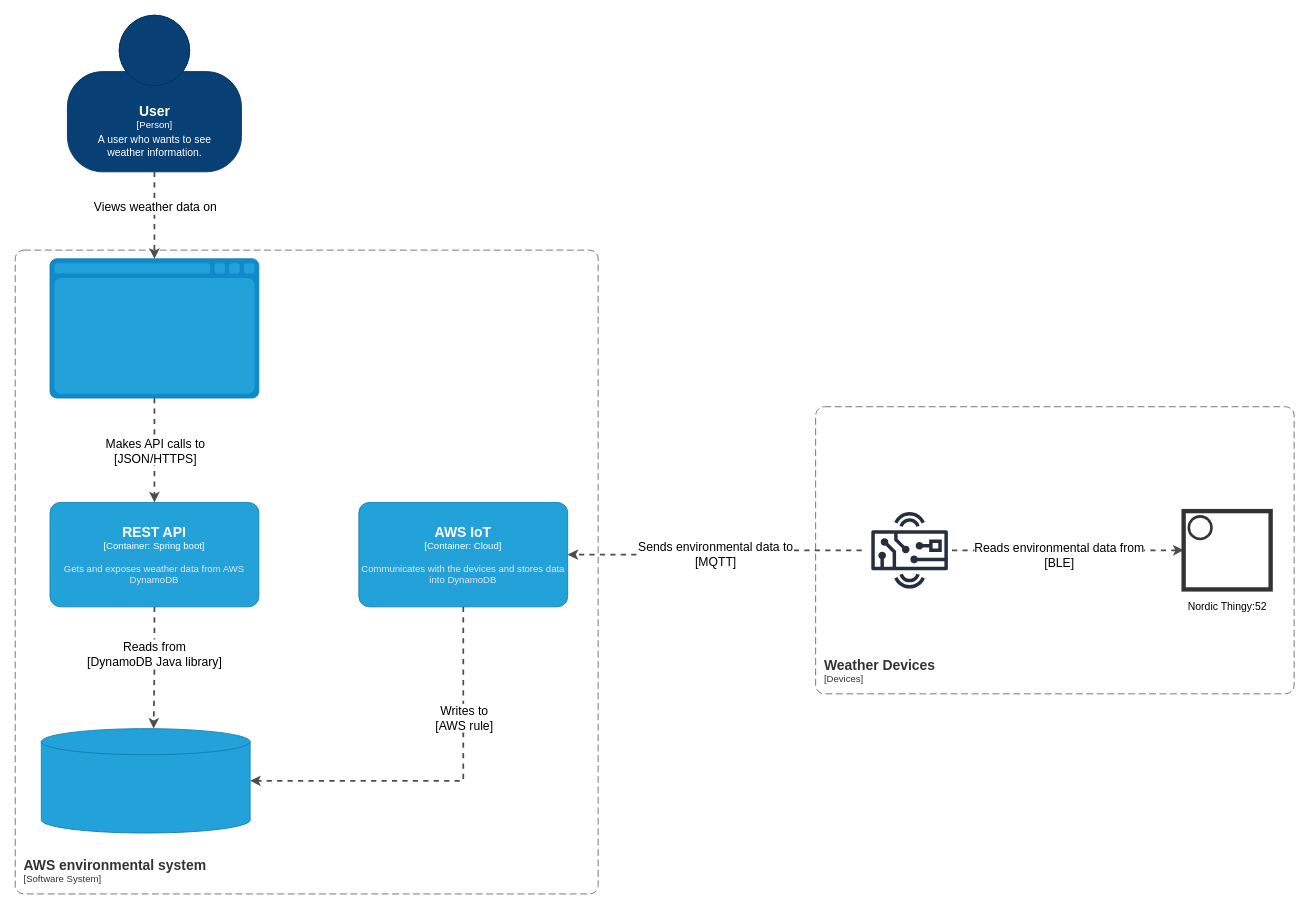
Image size: 1309x909. Some labels were removed from this diagram. The shapes that lost their labels are listed below. From the top down, each one's centre as x and y in pixels, then its label:
the point at 154,328: SPA Application [Container : JavaScript and Angular] Displays weather data
the point at 909,550: ESP32
the point at 145,780: Data storage [Database : AWS DynamoDB] Database to store the sensor values
